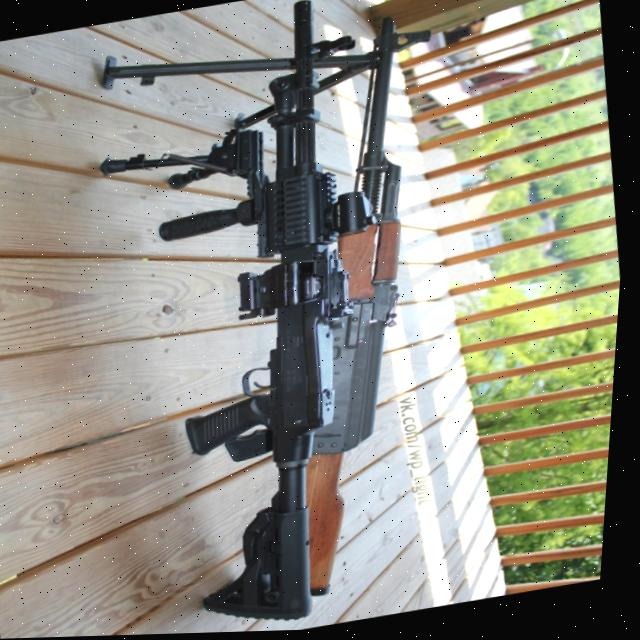firearm: (127, 0, 432, 636), (239, 10, 508, 597)
